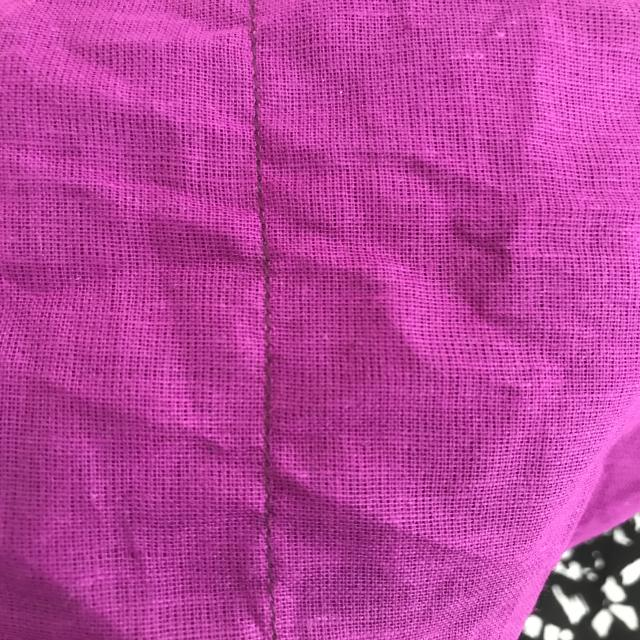good: (231, 80, 276, 196), (252, 298, 299, 402)
